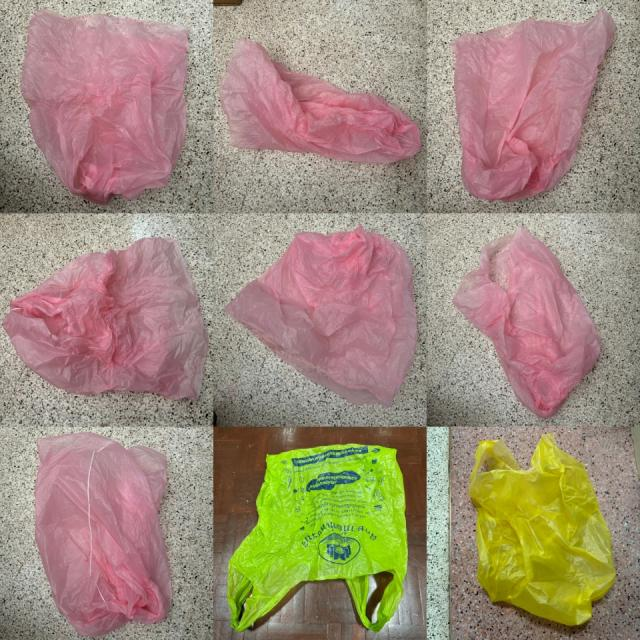Single-layer Plastic: (225, 226, 418, 407), (2, 238, 209, 401), (228, 444, 408, 631), (21, 10, 189, 204), (450, 9, 615, 201), (452, 226, 600, 417), (469, 434, 615, 625), (35, 432, 171, 636), (220, 38, 421, 163)
